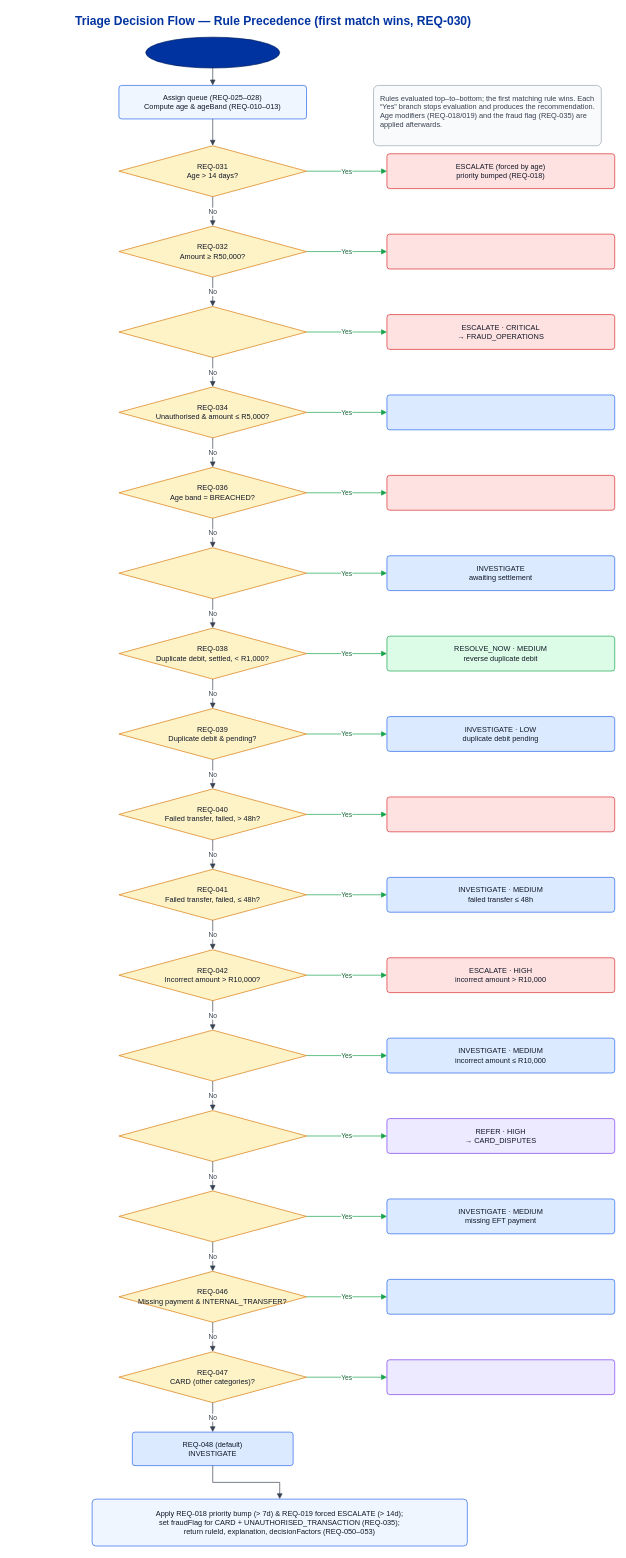
Some shapes in this 626 by 1558 pixel diagram are drawn without their labels. The shapes that lost their labels are listed below. From the top down, each one's box as (x1, y1, x2, y2) in pixels, then its label:
(145, 37, 280, 68): Dispute created
(386, 233, 615, 269): ESCALATE · CRITICAL High value ≥ R50,000
(118, 306, 307, 357): REQ-033 Unauthorised & amount > R5,000?
(386, 394, 615, 430): INVESTIGATE · HIGH → FRAUD_OPERATIONS
(386, 475, 615, 510): ESCALATE · HIGH SLA breached
(118, 547, 307, 599): REQ-037 Status = PENDING?
(386, 796, 615, 832): ESCALATE · HIGH failed transfer > 48h
(118, 1029, 307, 1081): REQ-043 Incorrect amount ≤ R10,000?
(118, 1110, 307, 1161): REQ-044 Missing payment & CARD?
(118, 1190, 307, 1242): REQ-045 Missing payment & EFT?
(386, 1279, 615, 1314): INVESTIGATE · LOW missing internal transfer
(386, 1359, 615, 1395): REFER → CARD_DISPUTES
